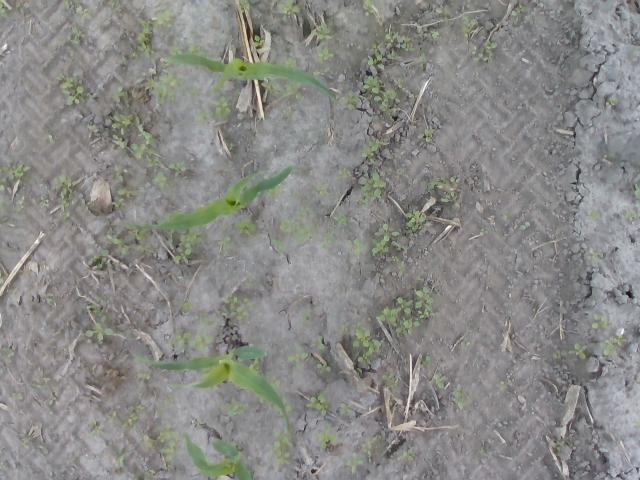Maize: (136, 346, 292, 436), (126, 164, 294, 232), (161, 50, 340, 106), (182, 432, 254, 480)
Weeds: (363, 76, 400, 118), (145, 71, 185, 104), (351, 322, 382, 364), (168, 227, 202, 264), (56, 72, 92, 106), (215, 290, 254, 320), (279, 217, 318, 246), (54, 174, 76, 220), (156, 423, 182, 461), (356, 173, 386, 204), (271, 426, 294, 466), (371, 224, 399, 255), (136, 19, 156, 58), (414, 286, 436, 319), (86, 316, 114, 341), (106, 111, 134, 136), (468, 40, 498, 63), (361, 138, 388, 163), (136, 112, 156, 145), (62, 0, 92, 22), (600, 335, 629, 357), (218, 397, 248, 418), (120, 405, 145, 430), (316, 425, 338, 451), (396, 316, 420, 338), (306, 394, 328, 417), (167, 328, 190, 350), (190, 331, 212, 354), (59, 28, 85, 47), (112, 188, 138, 207), (105, 233, 128, 254), (378, 307, 401, 328), (0, 164, 30, 180), (130, 142, 156, 160), (406, 210, 425, 234), (428, 176, 460, 190), (278, 0, 300, 20), (288, 348, 308, 370), (346, 237, 368, 256), (234, 218, 257, 236), (212, 96, 230, 118), (345, 452, 363, 473), (452, 384, 466, 411), (461, 15, 477, 38), (511, 5, 529, 25), (152, 172, 172, 190), (272, 398, 292, 416), (311, 22, 332, 39), (428, 372, 448, 389), (342, 90, 359, 110), (382, 372, 398, 393), (569, 342, 587, 360), (396, 296, 413, 315), (441, 192, 461, 208), (280, 84, 302, 98), (156, 10, 173, 28), (592, 314, 610, 331), (168, 160, 187, 176), (361, 436, 376, 456), (186, 42, 206, 57), (296, 205, 314, 221), (322, 231, 338, 249), (198, 316, 220, 329), (93, 250, 108, 269), (436, 7, 452, 24), (89, 419, 105, 436), (368, 54, 384, 70), (586, 248, 604, 262), (261, 80, 279, 94), (114, 86, 128, 104), (217, 234, 232, 250), (401, 36, 416, 52), (272, 239, 286, 256), (113, 449, 125, 468), (0, 346, 15, 361), (132, 226, 148, 240), (310, 336, 326, 350), (138, 434, 154, 448), (418, 128, 434, 142), (317, 47, 334, 60), (268, 376, 280, 394), (266, 186, 284, 198), (113, 164, 124, 183), (363, 0, 375, 17), (399, 449, 416, 461), (300, 308, 312, 325), (195, 110, 212, 122), (418, 354, 432, 368), (136, 372, 150, 386), (112, 134, 125, 149), (385, 32, 398, 47), (316, 362, 332, 374), (314, 184, 330, 196), (338, 402, 352, 415), (87, 302, 100, 316), (200, 365, 213, 379), (145, 156, 160, 168), (87, 123, 99, 138), (248, 358, 260, 373), (312, 66, 330, 76), (166, 45, 182, 56), (0, 0, 8, 21), (157, 212, 171, 224), (333, 214, 347, 226), (252, 34, 264, 48), (282, 55, 296, 67), (386, 50, 401, 61), (418, 53, 428, 69), (137, 244, 153, 254), (237, 0, 250, 12), (336, 168, 349, 180), (393, 240, 408, 250), (588, 208, 600, 219), (81, 198, 92, 210), (180, 301, 193, 311), (552, 350, 566, 359), (108, 0, 120, 10), (605, 97, 617, 107), (256, 392, 266, 404), (106, 410, 116, 422), (41, 134, 54, 143), (0, 178, 8, 192), (390, 397, 398, 411), (398, 260, 405, 276), (499, 380, 510, 390), (340, 322, 350, 333), (0, 216, 9, 228), (188, 87, 198, 97), (393, 77, 402, 88), (624, 212, 638, 219), (633, 183, 640, 197), (16, 200, 24, 212), (555, 440, 564, 450), (520, 221, 530, 230), (40, 196, 49, 206), (164, 394, 174, 403), (246, 279, 256, 288), (430, 30, 440, 39), (370, 44, 381, 52), (604, 152, 616, 159), (49, 394, 56, 406), (502, 210, 510, 219), (128, 52, 138, 58), (460, 341, 470, 347), (408, 94, 418, 100), (165, 464, 172, 472), (15, 0, 22, 8), (391, 255, 399, 262), (417, 28, 424, 36), (356, 367, 362, 376), (228, 142, 234, 151), (0, 199, 4, 211), (156, 410, 162, 418), (162, 61, 170, 66), (0, 271, 3, 284), (287, 110, 293, 116), (416, 274, 422, 280)
